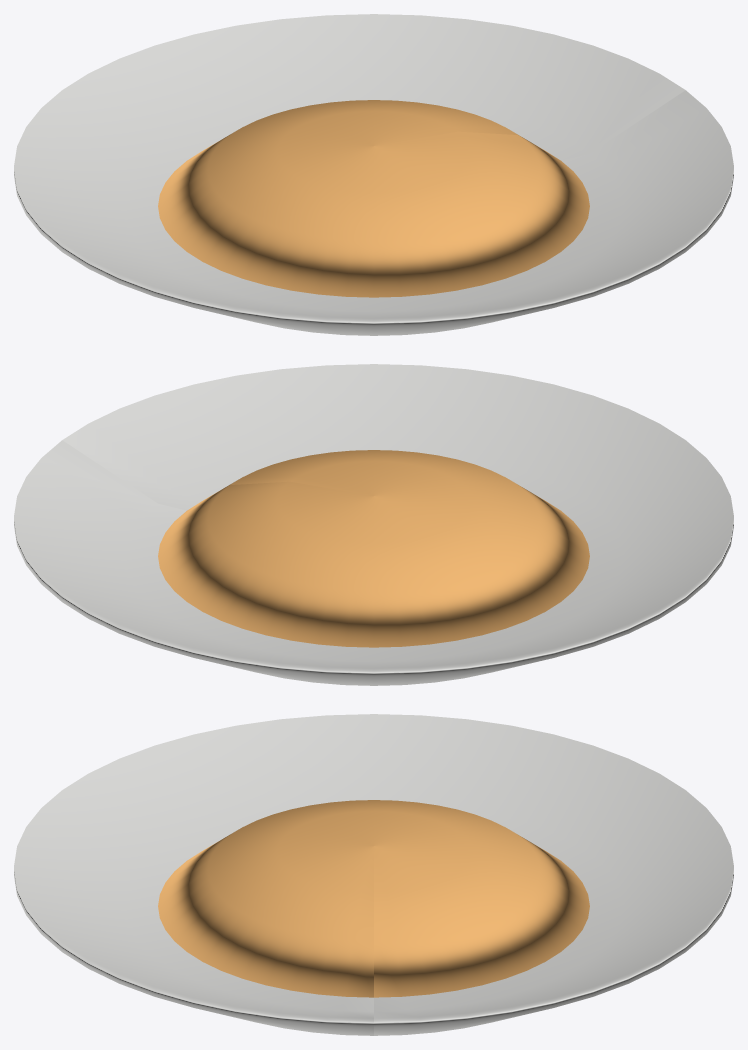
File: parmegiana.glb
3 views of the same model, one above another, from view 1: azimuth 30°, elevation 25°; view 2: azimuth 150°, elevation 25°; view 3: azimuth 270°, elevation 25° (orthographic).
Parts seen in each view (by area): view 1: parmegiana; view 2: parmegiana; view 3: parmegiana.
Part boxes in pixels (box(x1,y1,x2,y2)): parmegiana: box(14, 14, 733, 335); parmegiana: box(14, 364, 733, 685); parmegiana: box(14, 714, 733, 1035).
Size of the model in its own units: 0.26 by 0.036 by 0.26.
